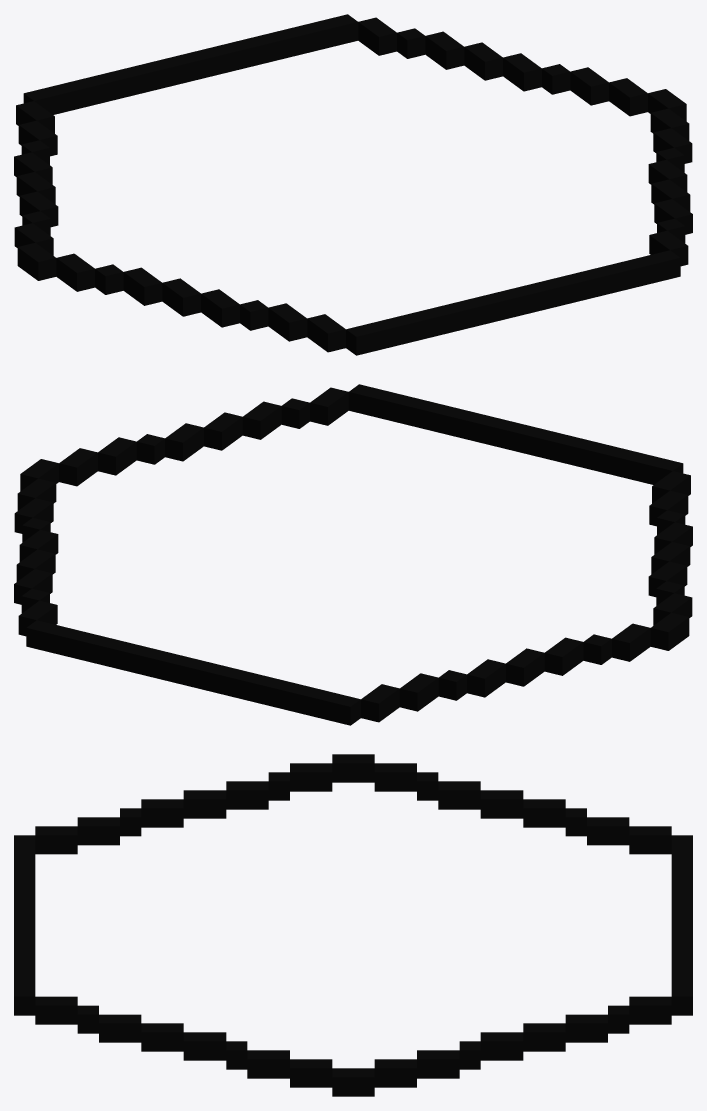
Rendered from Boundary_Hexagono.obj.
3 renders of one model, top to bottom at view 1: azimuth 30°, elevation 25°; view 2: azimuth 150°, elevation 25°; view 3: azimuth 270°, elevation 25°, orthographic. The views are drawn at different scales.
Bounding box in the file's own units: 3.6 × 0.1 × 3.2.
1 material, 1 textured.
